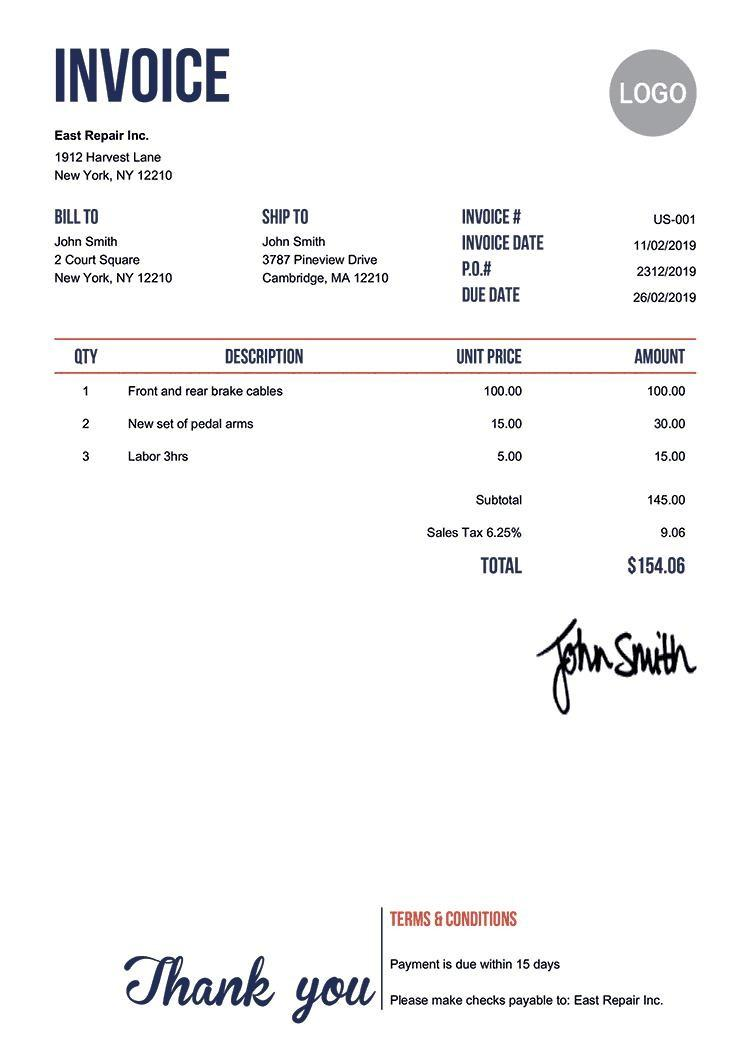ROI: (64, 338, 692, 474), (386, 904, 677, 1016), (458, 205, 707, 310), (424, 489, 686, 576), (49, 202, 187, 295), (53, 124, 181, 188)
